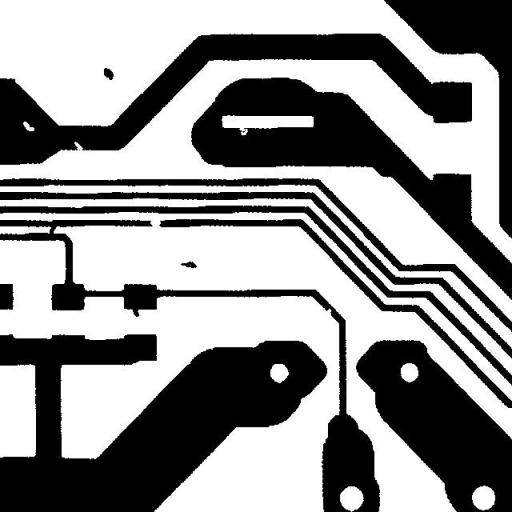copper: (96, 60, 121, 87), (173, 254, 204, 275)
mousebite: (66, 134, 90, 160), (231, 120, 255, 142), (320, 301, 338, 323)
open: (142, 213, 168, 237)
pin-hole: (15, 114, 42, 138)
short: (42, 218, 63, 242)
spur: (125, 300, 146, 324)
